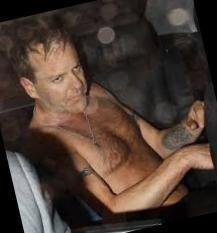Drunk: (33, 42, 87, 112)
